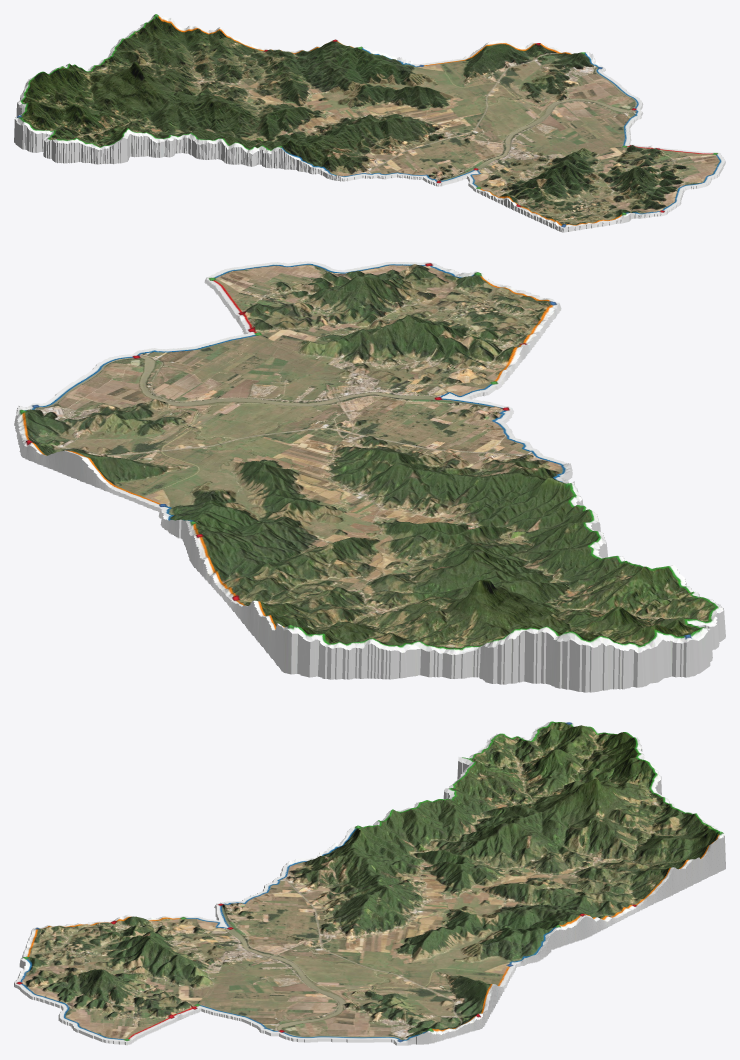
File: ilhota.glb
3 views of the same model, one above another, from view 1: azimuth 30°, elevation 25°; view 2: azimuth 150°, elevation 25°; view 3: azimuth 270°, elevation 25° (orthographic). The views are drawn at different scales.
Bounding box in the file's own units: 0.9999 × 0.0737 × 1.02.
1 material, 1 textured.
